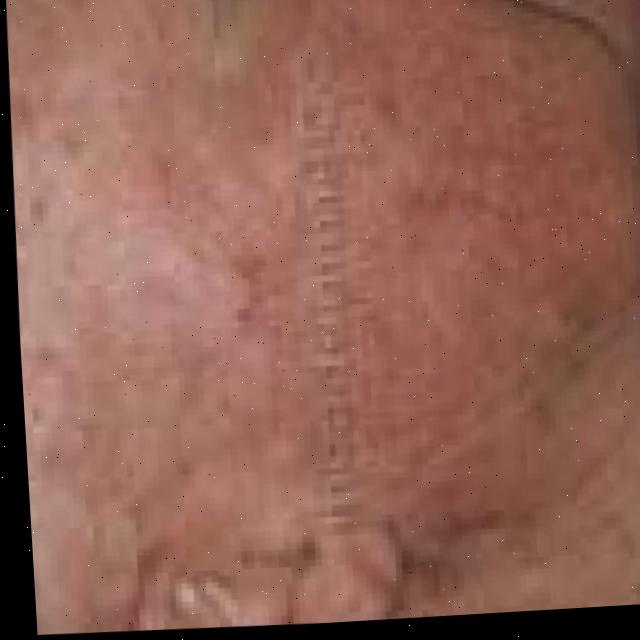Melasma: (258, 25, 595, 498)
